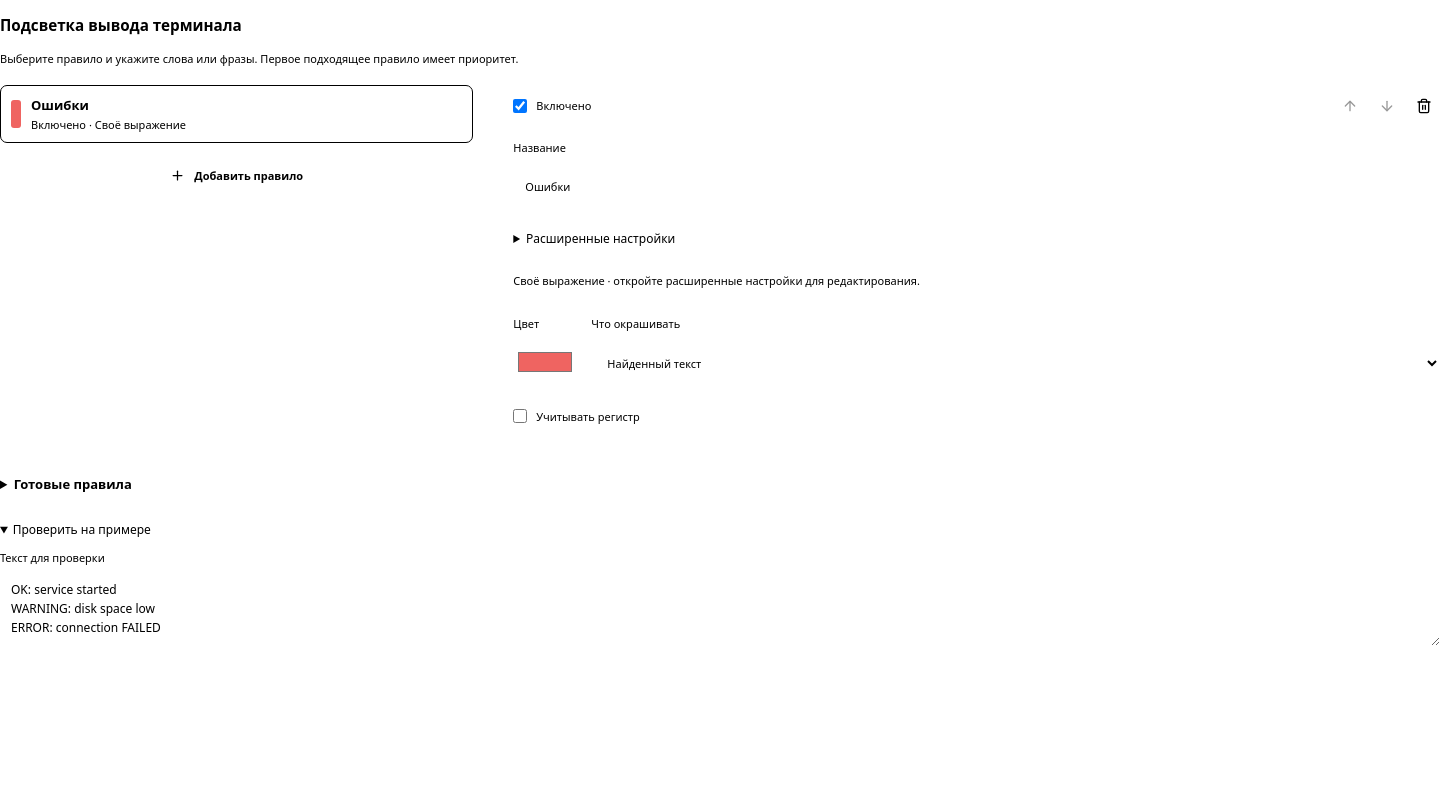
Scenario: preserves custom expressions until explicit confirmed replacement
Check: the field labelled "Слова и фразы" is not shown
Click the heading "Расширенные настройки" at (601, 239), box [526,230,675,247]
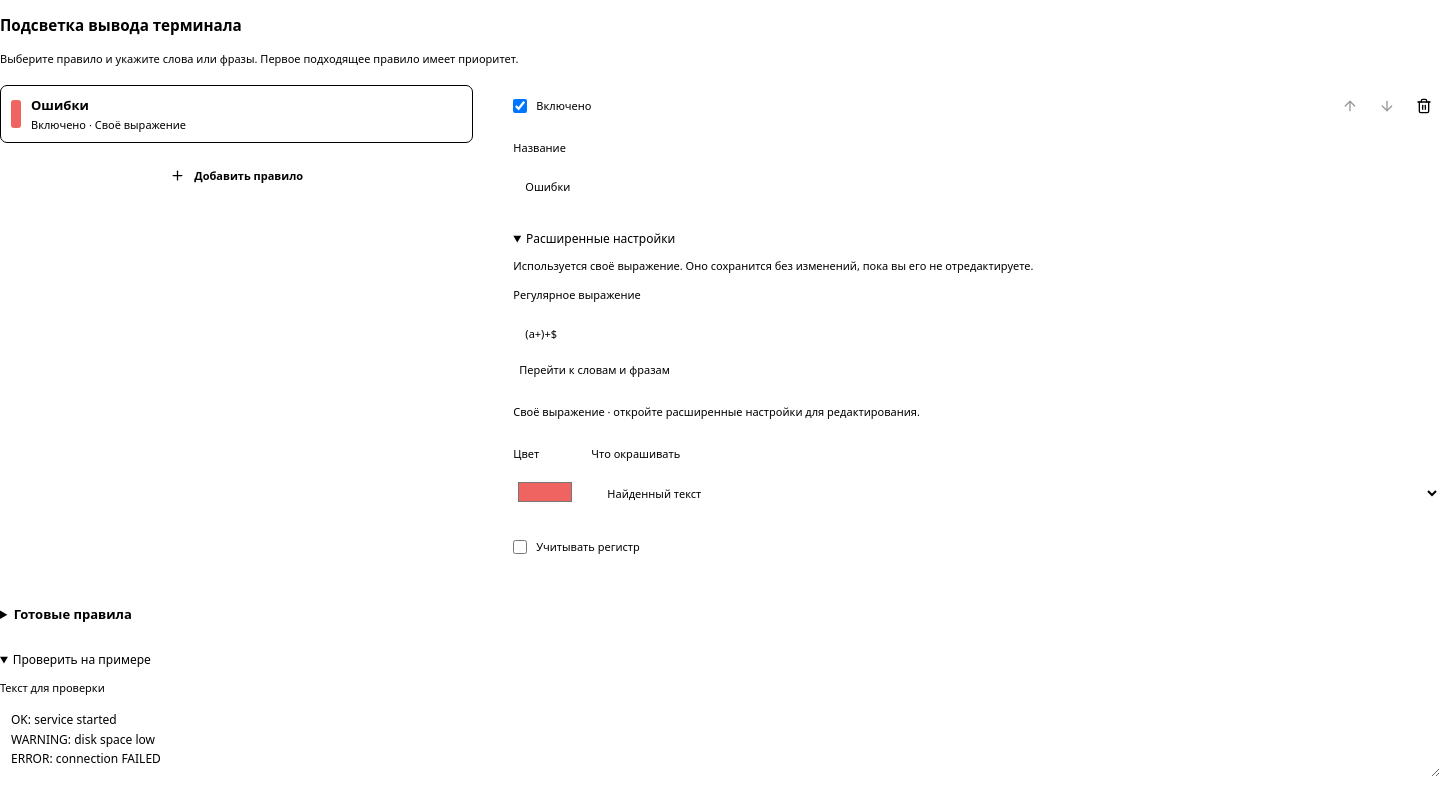
Click the button "Перейти к словам и фразам" at (595, 369), box [513,361,676,378]
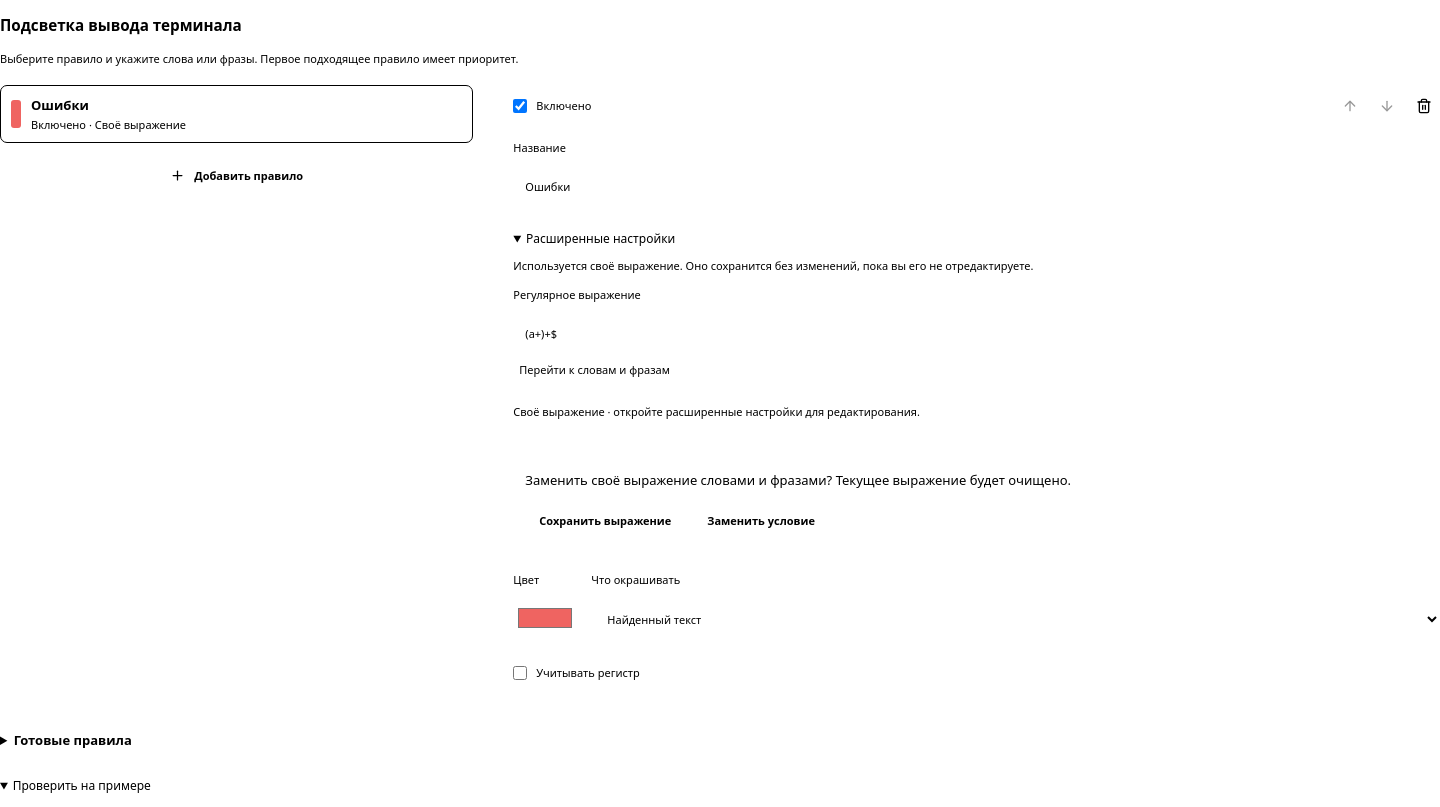
Click the button "Сохранить выражение" at (605, 520), box [525,502,685,538]
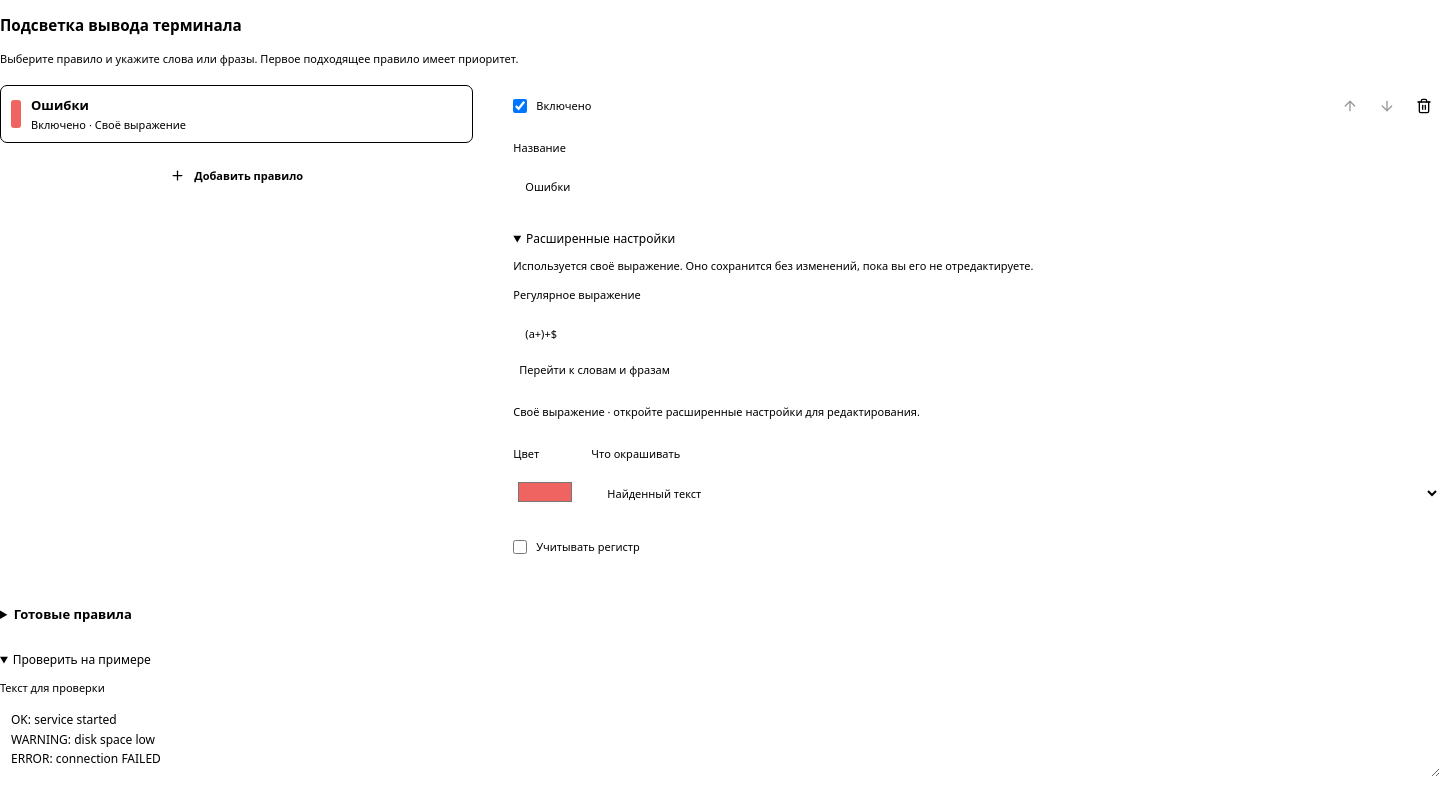
Click the button "Перейти к словам и фразам" at (595, 369), box [513,361,676,378]
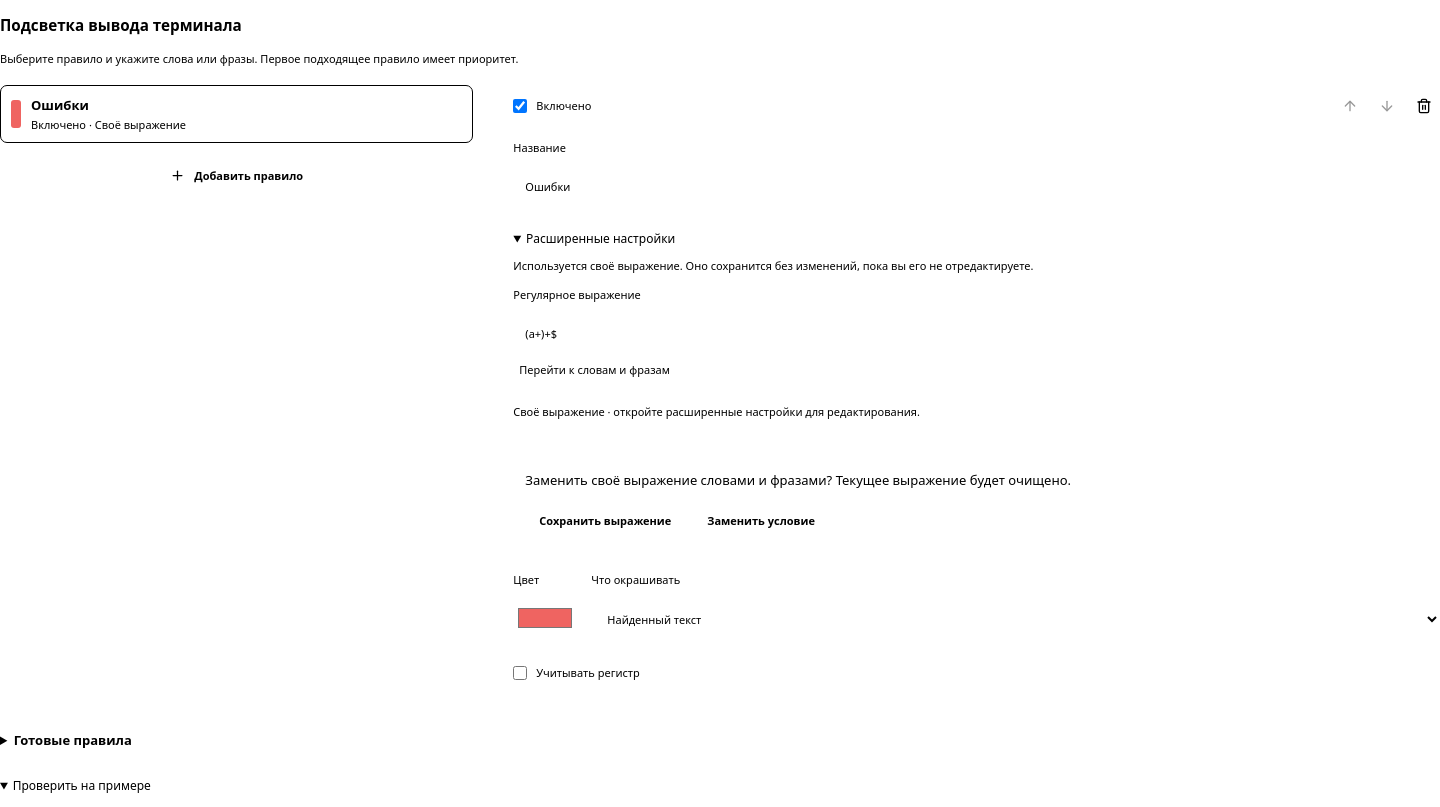
Click the button "Заменить условие" at (761, 520), box [693,502,829,538]
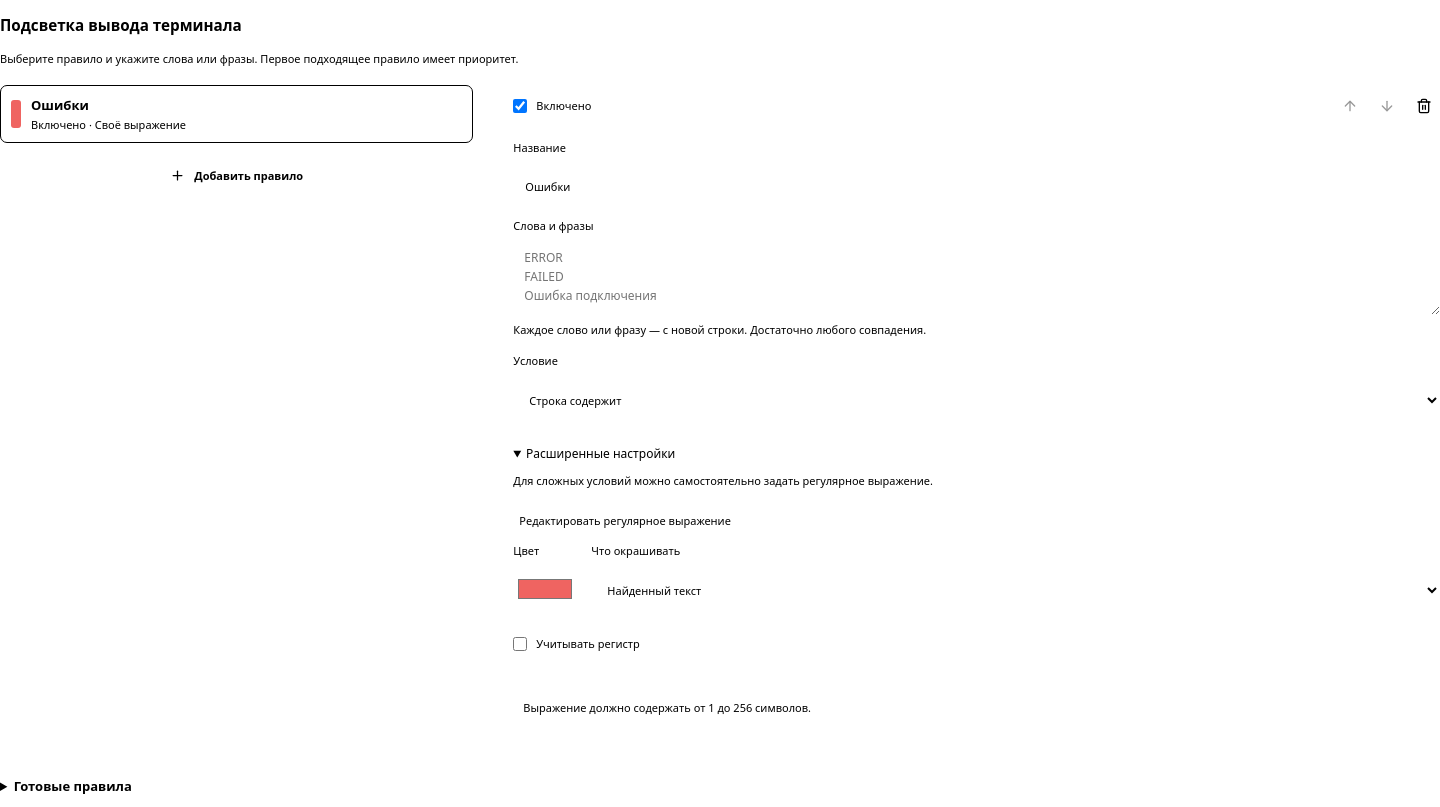
Check: the text box labelled "Слова и фразы" is shown, box [513,239,1439,315]
